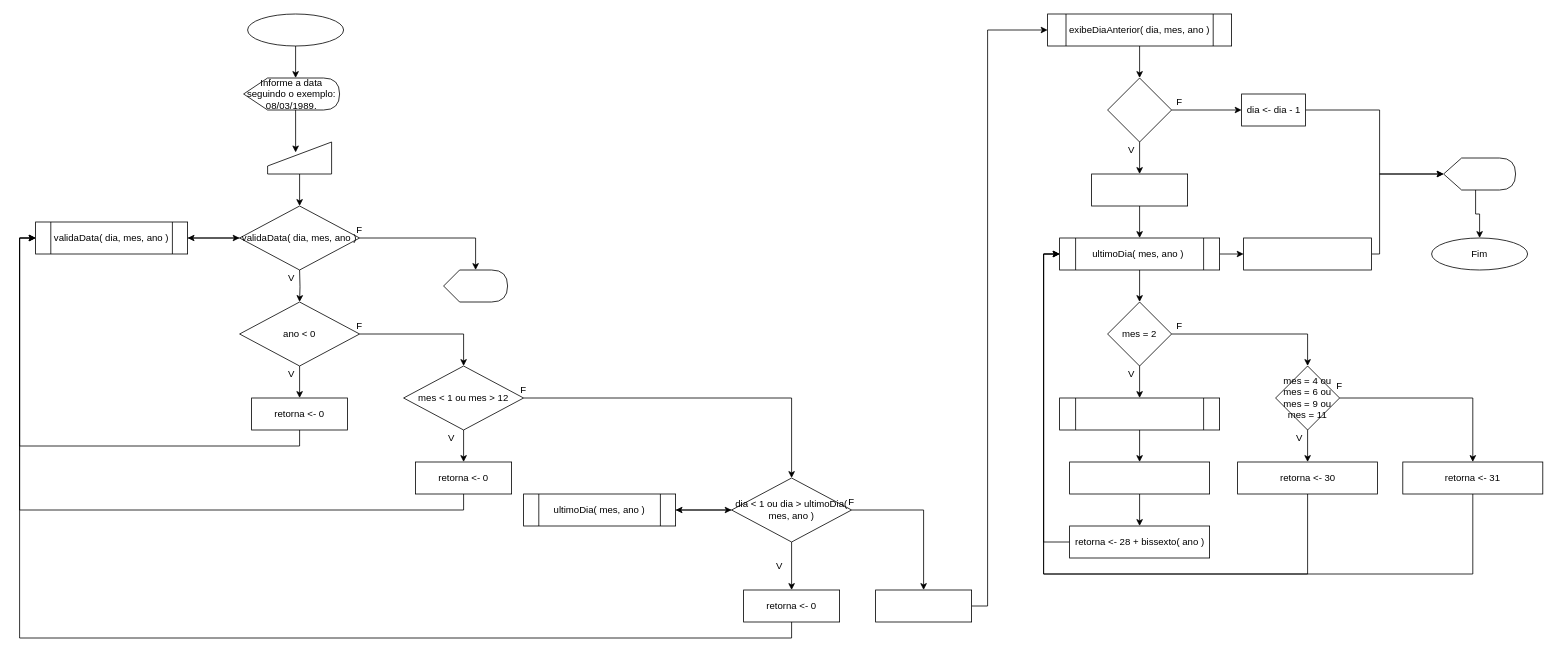
The diagram is 1557 pixels wide and 658 high, and some of its shapes have lost their labels. Here are the shapes that lost their labels. From the top down, the centre of each, then its label:
At (x=295, y=29): "Início".
At (x=1139, y=109): "dia = 1".
At (x=299, y=157): "dia, mes, ano".
At (x=1479, y=173): "Data do dia anterior: dia, mes, ano".
At (x=1139, y=189): "mes--".
At (x=1307, y=253): "dia <- ultimoDia( mes, ano )".
At (x=475, y=285): "Data invalida!".
At (x=1139, y=413): "bissexto( ano )".
At (x=1139, y=477): "ano mod 4 = 0 e ano mod 100 != 0 ) ou ( ano mod 400 = 0".
At (x=923, y=605): "retorna <- 1".
